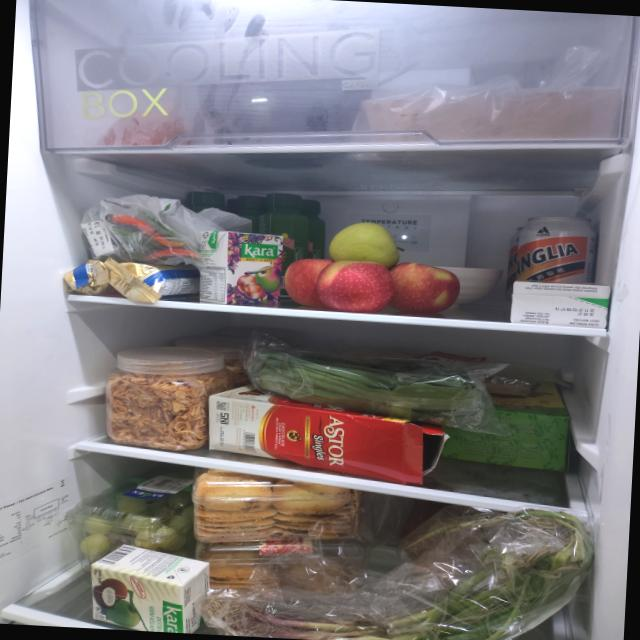apple: (282, 218, 463, 318)
chili: (100, 199, 202, 263)
coconut_milk: (87, 542, 212, 634), (196, 230, 284, 308)
grape: (79, 486, 200, 561)
leafy_greens: (254, 351, 483, 428)
spring_onion: (200, 491, 596, 640)
